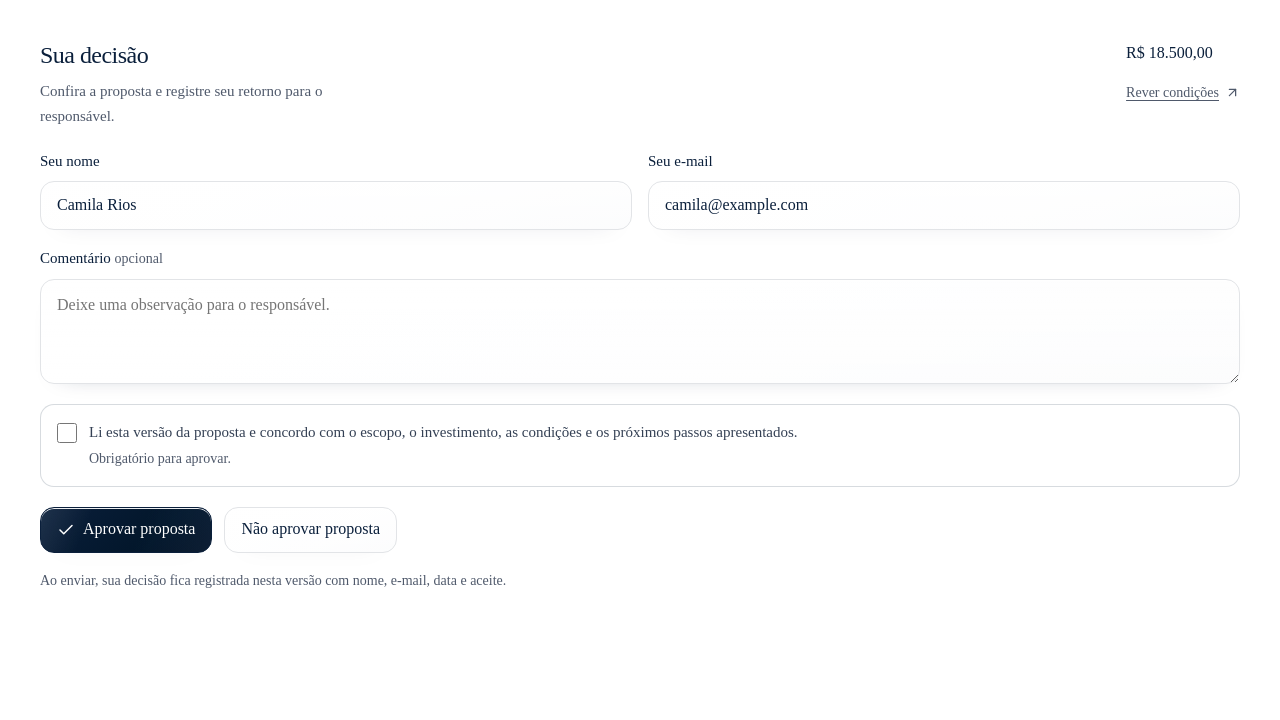
decisão do cliente › falha de conexão não quebra a tela nem apaga o comentário
The image size is (1280, 720).
Type "Preciso revisar o prazo." into the text box labelled "Comentário opcional" at {"x": 640, "y": 331}, box [40, 279, 1240, 384]
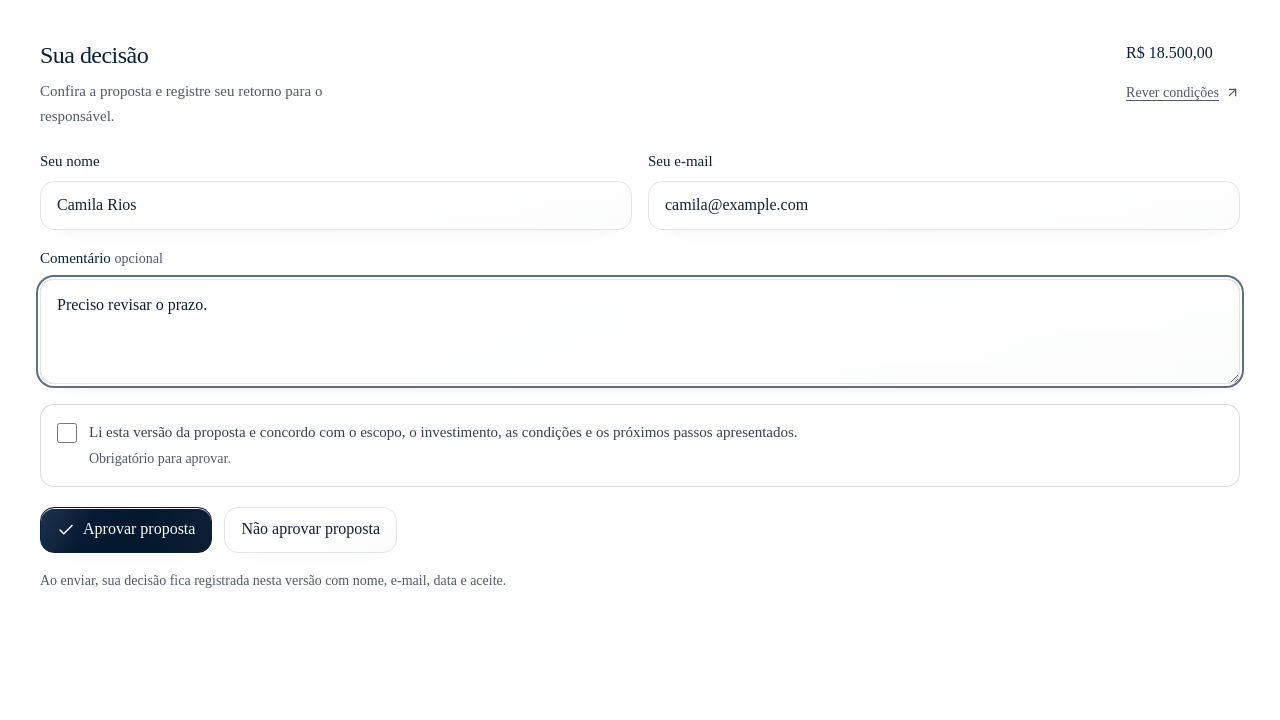
Click the button "Não aprovar proposta" at {"x": 311, "y": 530}, box [224, 507, 397, 553]
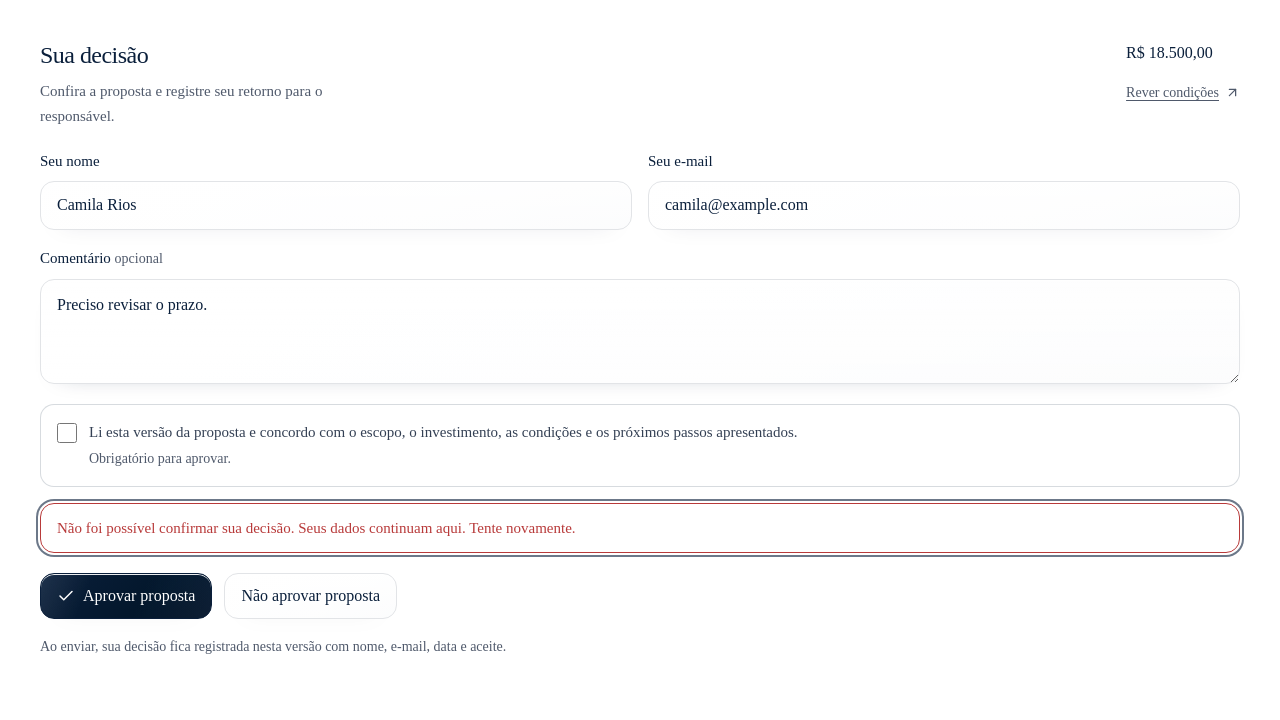
Expected: the message shows "Seus dados continuam aqui", [57, 520, 576, 536]
